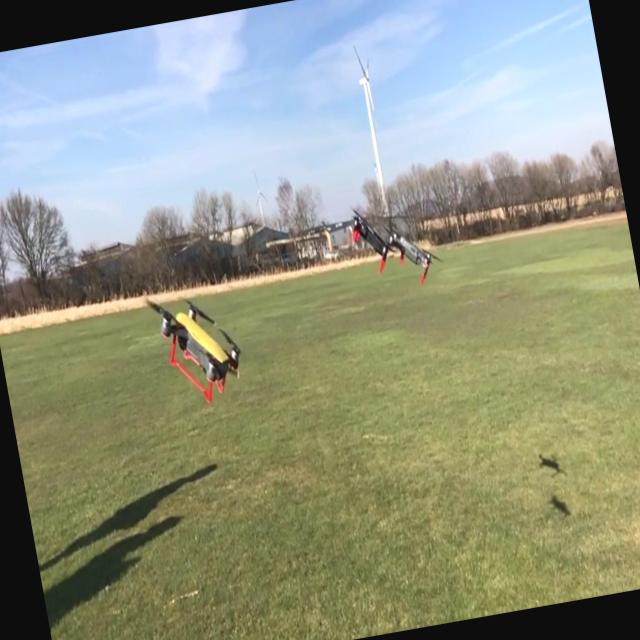drone: (138, 281, 250, 412), (345, 188, 444, 294)
